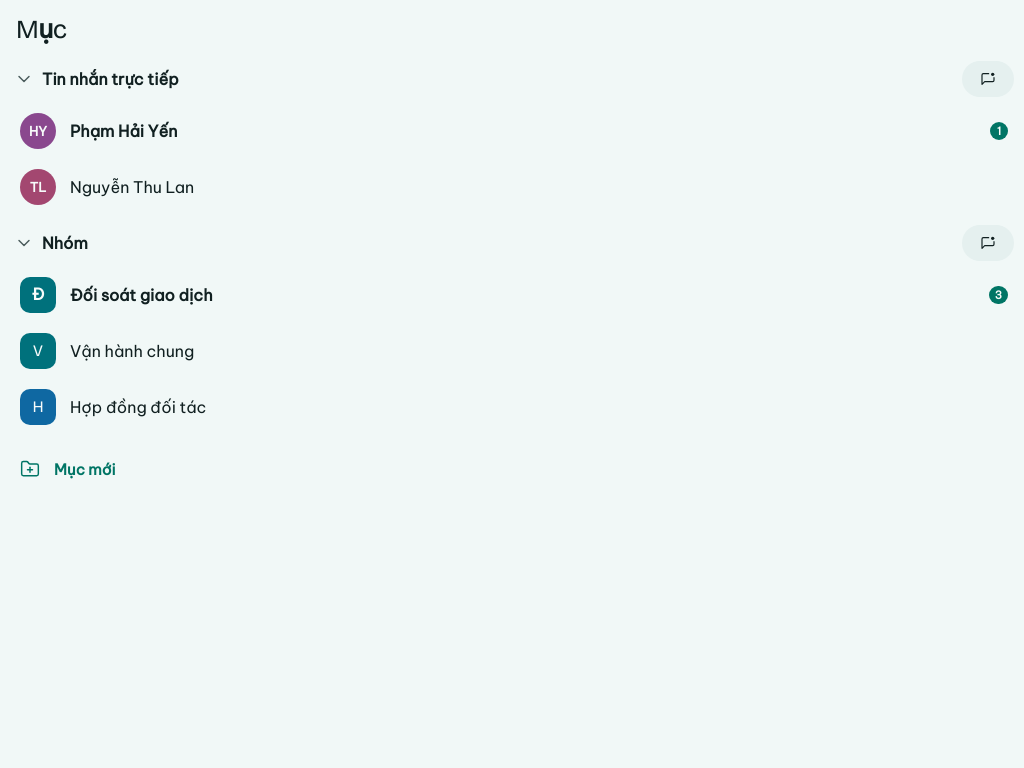
Test case: the long-press sheet: Đánh dấu đã đọc › is the last choice on a row with unread messages, and reads up to the message the row quotes
Check: the text named "3 tin chưa đọc" is shown, box [989,286,1008,304]
Press the mouse on the list item "Đối soát giao dịch" at x=512, y=295, box [0,267,1023,323]
Wait 401 ms
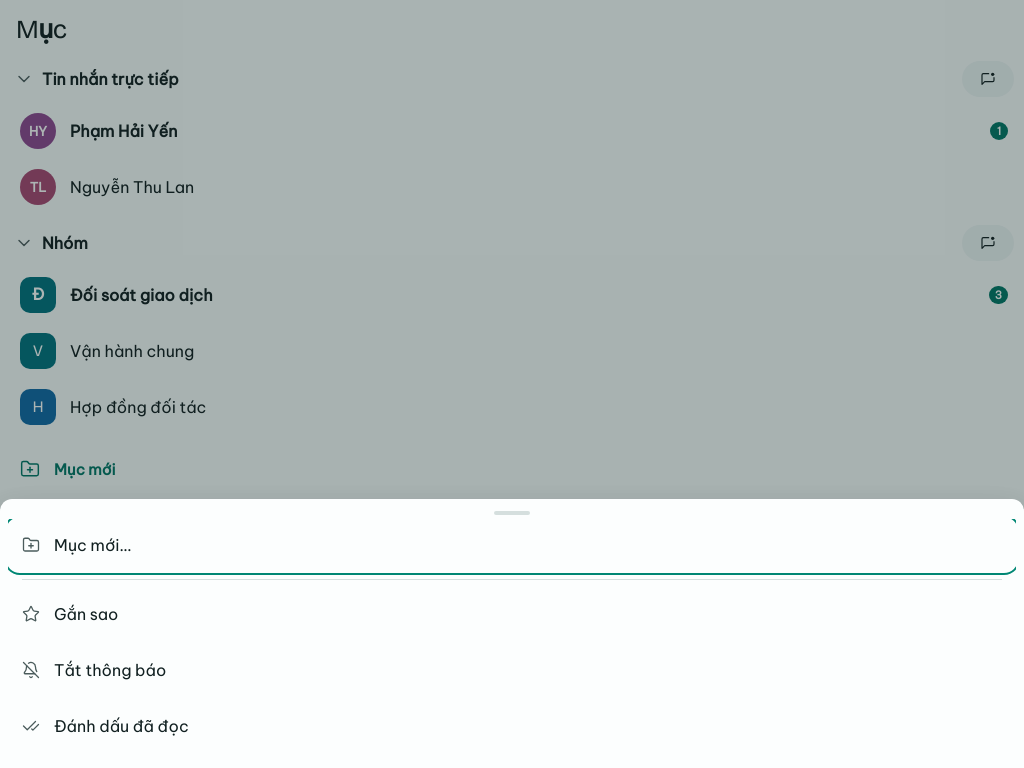
Check: the text "Đánh dấu đã đọc" is shown, box [54,716,189,736]
Click the button "Đánh dấu đã đọc" at x=121, y=726, box [8,700,1016,752]
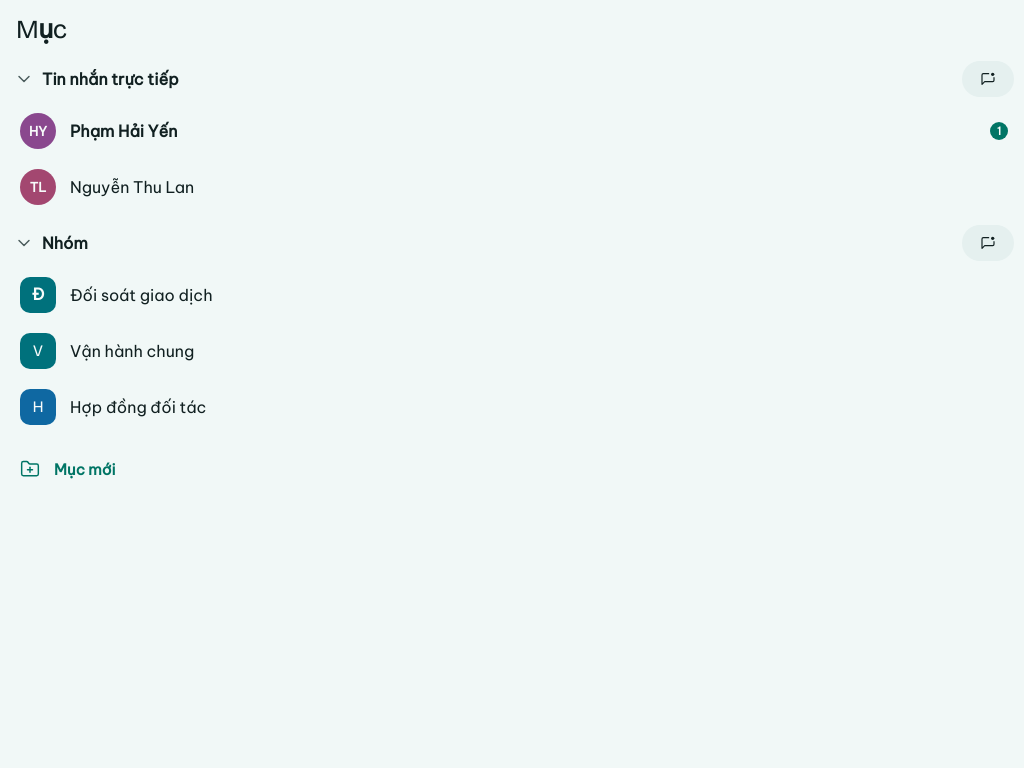
Check: the dialog is gone
